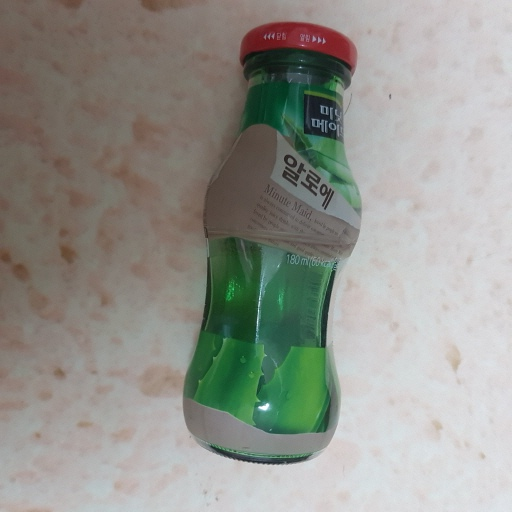Glass_4: (169, 23, 380, 466)
